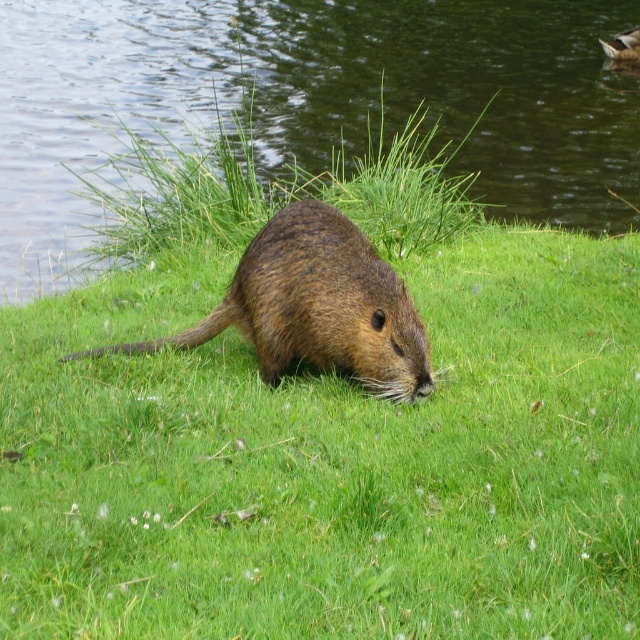Mouse: (58, 199, 460, 407)
